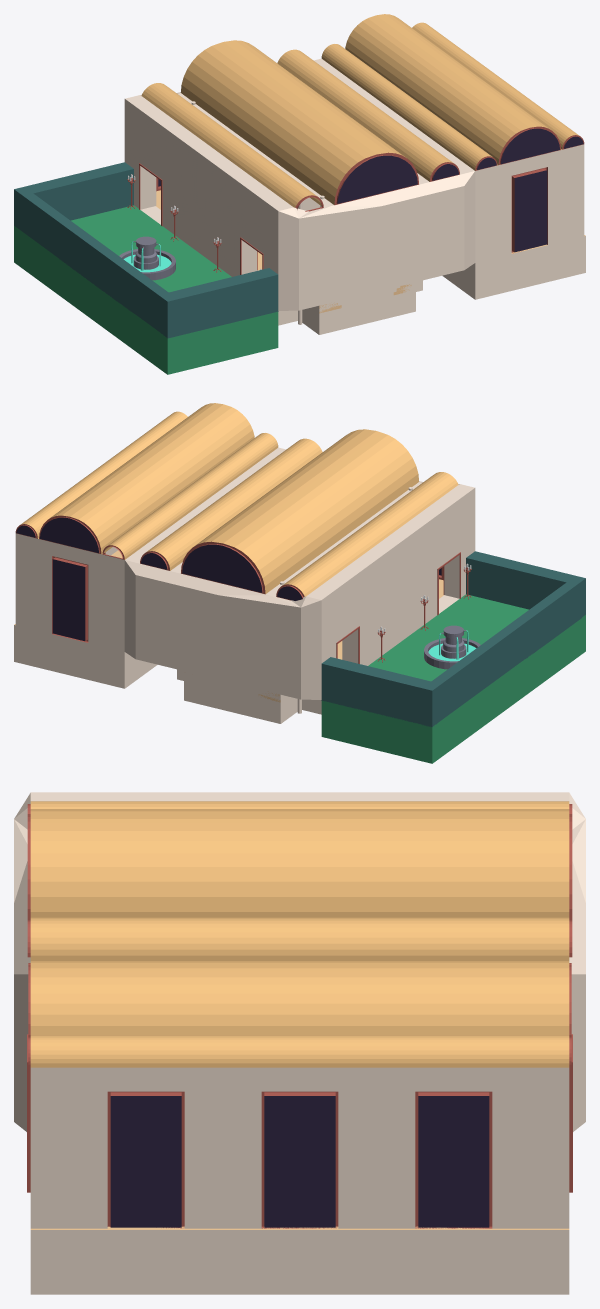
The model's file is map_mk5.fbx.
3 renders of one model, top to bottom at view 1: azimuth 30°, elevation 25°; view 2: azimuth 150°, elevation 25°; view 3: azimuth 270°, elevation 25°, orthographic. The views are drawn at different scales.
Visible parts, largest first — view 1: tetto, sala da ballo base, tetto.001, PAVIMENTI, MURI, muro1.002, siepe, siepe.002, siepe.001, fontana; view 2: tetto, sala da ballo base, tetto.001, MURI, PAVIMENTI, muro1.001, siepe, siepe.001, siepe.002, fontana; view 3: muro1, tetto, tetto.001, PAVIMENTI, sala da ballo base.
Part boxes in pixels (x1,y1,x2,y2): tetto: (141, 40, 459, 211); sala da ballo base: (125, 58, 475, 310); tetto.001: (321, 14, 584, 170); PAVIMENTI: (14, 190, 585, 374); MURI: (124, 99, 422, 334); muro1.002: (475, 144, 584, 262); siepe: (14, 187, 177, 338); siepe.002: (163, 268, 278, 336); siepe.001: (21, 162, 133, 220); fontana: (119, 236, 175, 280); tetto: (140, 429, 458, 600); sala da ballo base: (124, 447, 474, 763); tetto.001: (15, 403, 278, 559); MURI: (177, 488, 475, 723); PAVIMENTI: (14, 550, 585, 763); muro1.001: (15, 533, 124, 651); siepe: (422, 576, 585, 727); siepe.001: (321, 657, 435, 724); siepe.002: (466, 551, 581, 609); fontana: (424, 625, 480, 669); muro1: (30, 1067, 569, 1228); tetto: (27, 801, 572, 960); tetto.001: (28, 961, 571, 1067); PAVIMENTI: (30, 1226, 569, 1294); sala da ballo base: (14, 792, 585, 1131).
Bounding box in the file's own units: 2375 × 955 × 1604.
